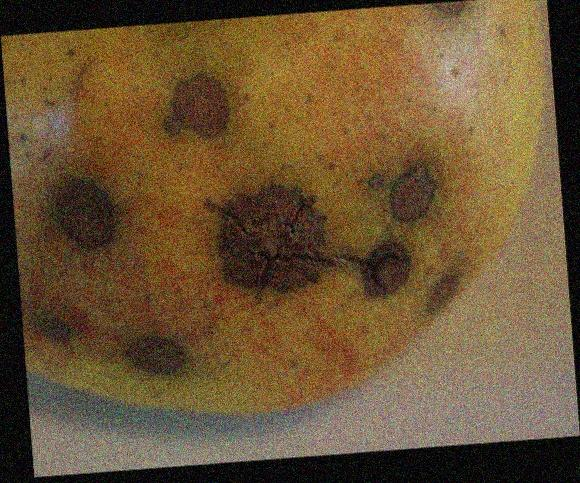rotten apple: (15, 15, 561, 411)
